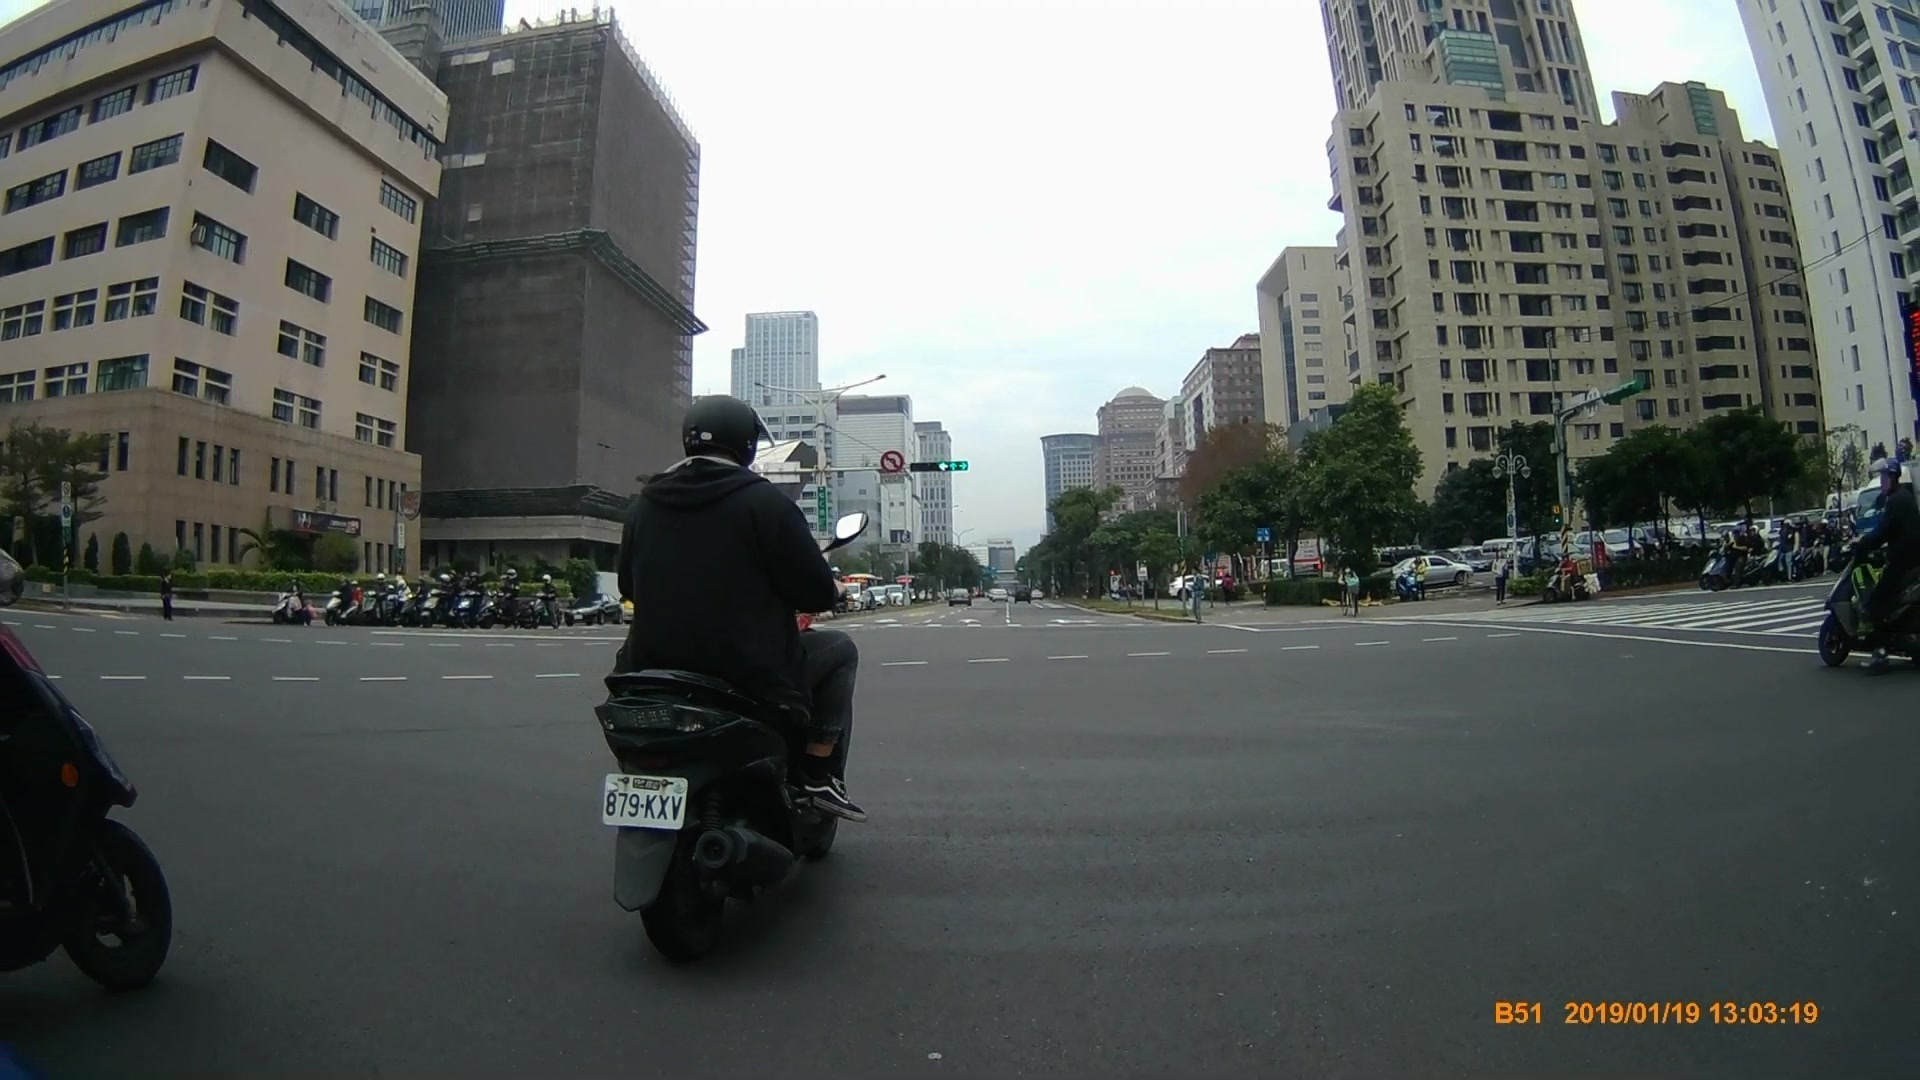License_plate: (602, 770, 690, 833)
